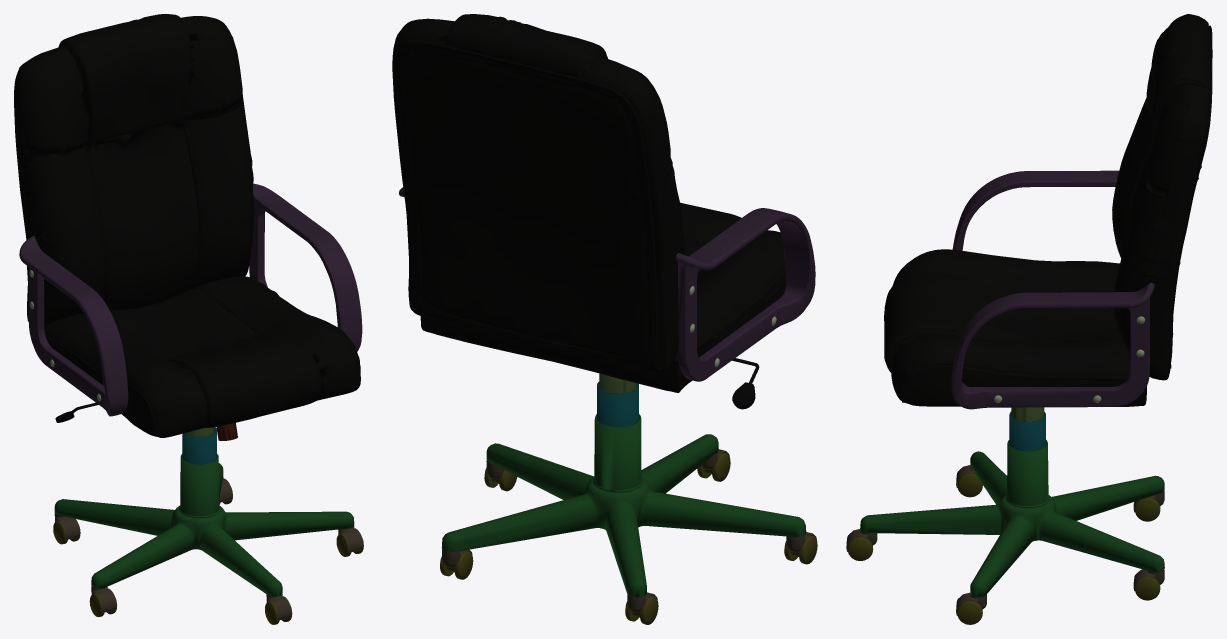
File: SR-chair_office_fabric_manager_a01.glb
3 renders of one model, left to right at view 1: azimuth 30°, elevation 25°; view 2: azimuth 150°, elevation 25°; view 3: azimuth 270°, elevation 25°, orthographic. The views are drawn at different scales.
Visible parts, largest first — view 1: sm_seat_a01_mesh_00, sm_leg_a01_mesh_00; view 2: sm_seat_a01_mesh_00, sm_leg_a01_mesh_00, sm_seat_lock_a01_mesh_00; view 3: sm_seat_a01_mesh_00, sm_leg_a01_mesh_00, sm_tire5_a01_mesh_00.001, sm_tire5_a01_mesh_00, sm_tire5_a01_mesh_00.004.
Part boxes in pixels (<box>): sm_seat_a01_mesh_00: <box>14,14,362,440</box>; sm_leg_a01_mesh_00: <box>54,427,354,596</box>; sm_seat_a01_mesh_00: <box>392,14,815,392</box>; sm_leg_a01_mesh_00: <box>441,373,806,597</box>; sm_seat_lock_a01_mesh_00: <box>732,358,759,409</box>; sm_seat_a01_mesh_00: <box>884,14,1212,409</box>; sm_leg_a01_mesh_00: <box>860,407,1164,596</box>; sm_tire5_a01_mesh_00.001: <box>957,600,982,624</box>; sm_tire5_a01_mesh_00: <box>847,537,873,560</box>; sm_tire5_a01_mesh_00.004: <box>1135,576,1160,600</box>.
Size of the model in its own units: 0.6213 by 1.09 by 0.7059.
18 materials, 15 textured.
